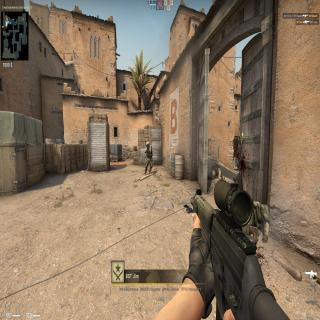CT-Head: (146, 141, 150, 148)
